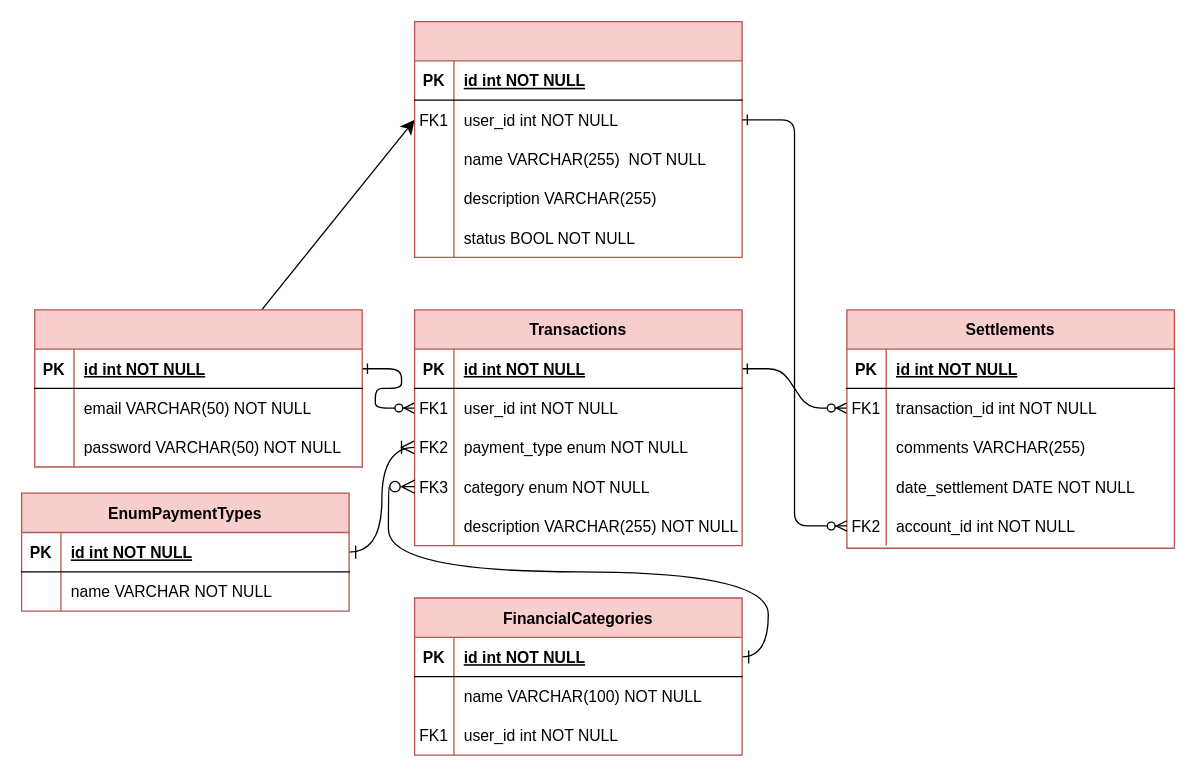
Image size: 1196x777. Some labels were removed from this diagram. The shapes that lost their labels are listed below. From the top down, each one's box as (x1, y1, x2, y2) in pixels, then its label:
(413, 20, 742, 257): Accounts
(33, 309, 362, 467): Users
